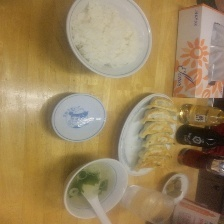rice: (67, 0, 146, 74)
